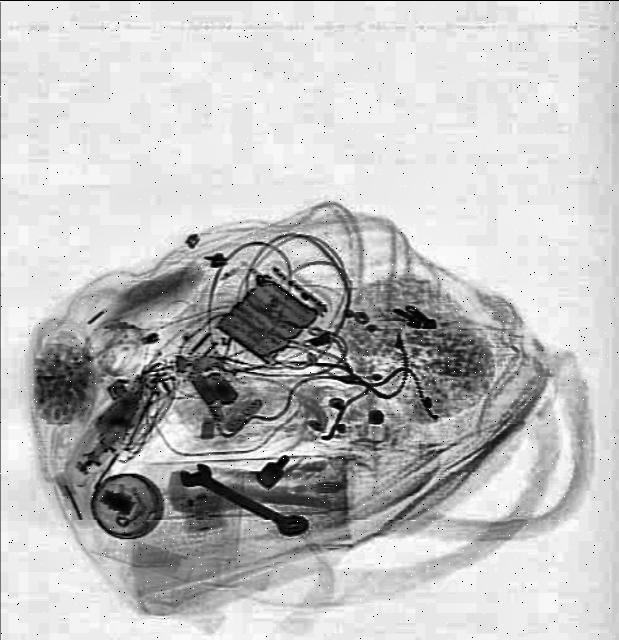Wrench: (173, 452, 314, 542)
